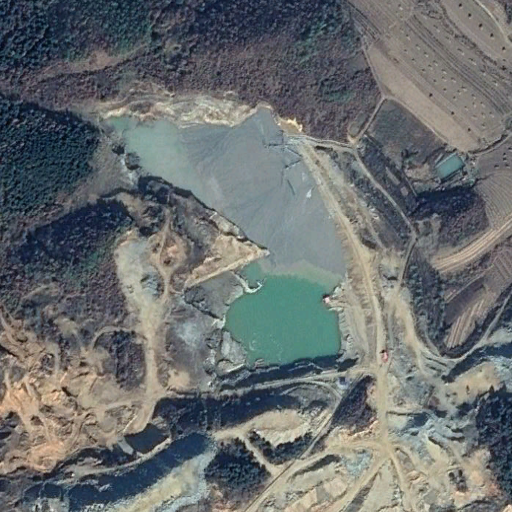tp: (106, 105, 360, 377)
